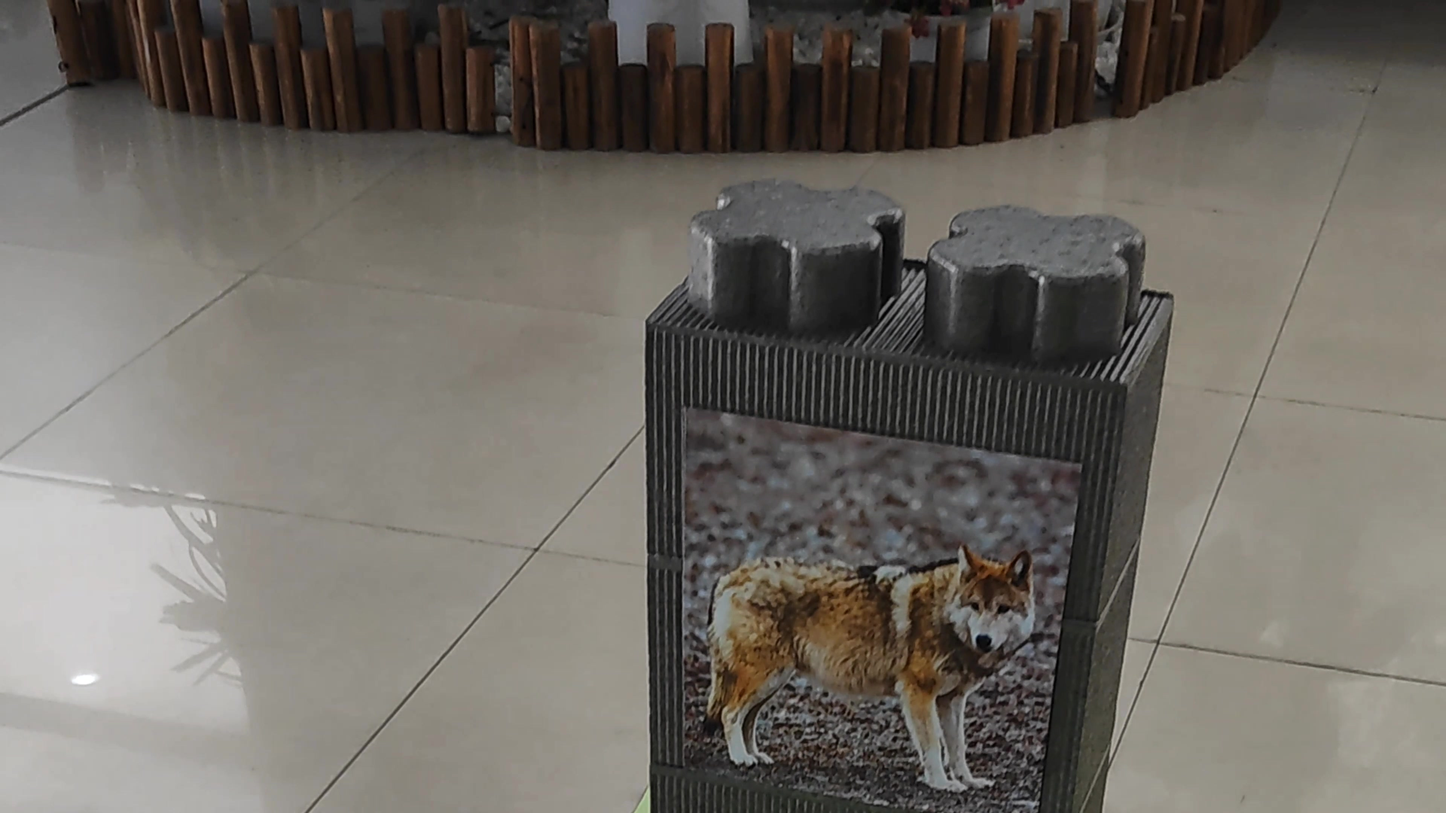wolf: (692, 472, 1051, 796)
